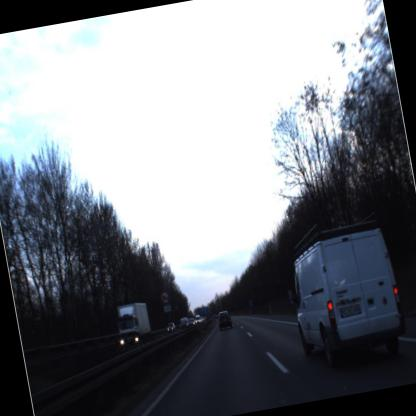prohibitory: (160, 286, 174, 306)
